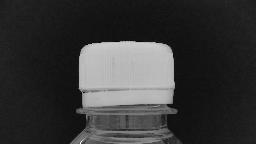Broken Ring: (78, 84, 162, 112)
